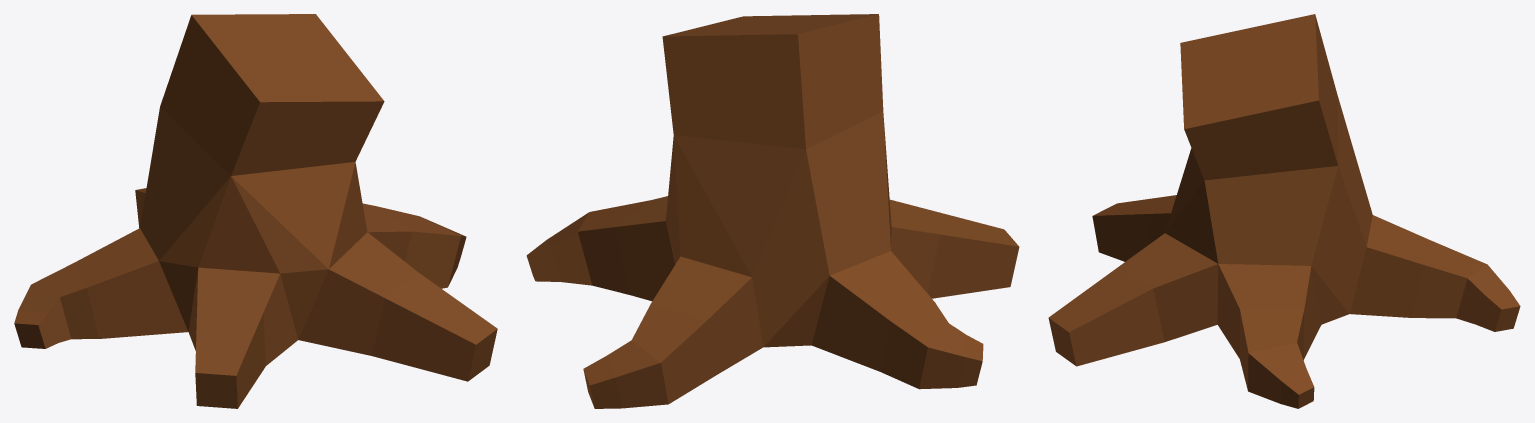
3 renders of one model, left to right at view 1: azimuth 30°, elevation 25°; view 2: azimuth 150°, elevation 25°; view 3: azimuth 270°, elevation 25°, orthographic. The views are drawn at different scales.
Visible parts, largest first — view 1: 큐브.010; view 2: 큐브.010; view 3: 큐브.010.
Part boxes in pixels (bbox=[...]): 큐브.010: bbox=[14, 14, 497, 408]; 큐브.010: bbox=[526, 14, 1019, 408]; 큐브.010: bbox=[1048, 14, 1520, 408].
Bounding box in the file's own units: 671 × 435 × 670.
